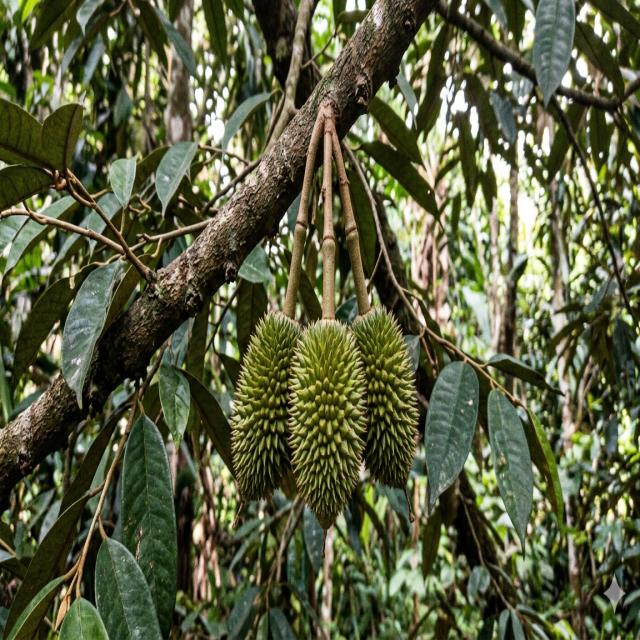immature: (286, 314, 368, 530), (230, 306, 302, 506), (349, 302, 418, 490)
